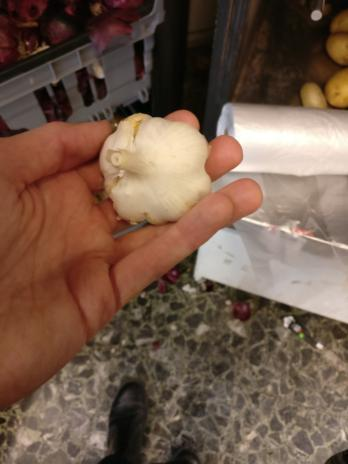Garlic: (96, 109, 215, 228)
